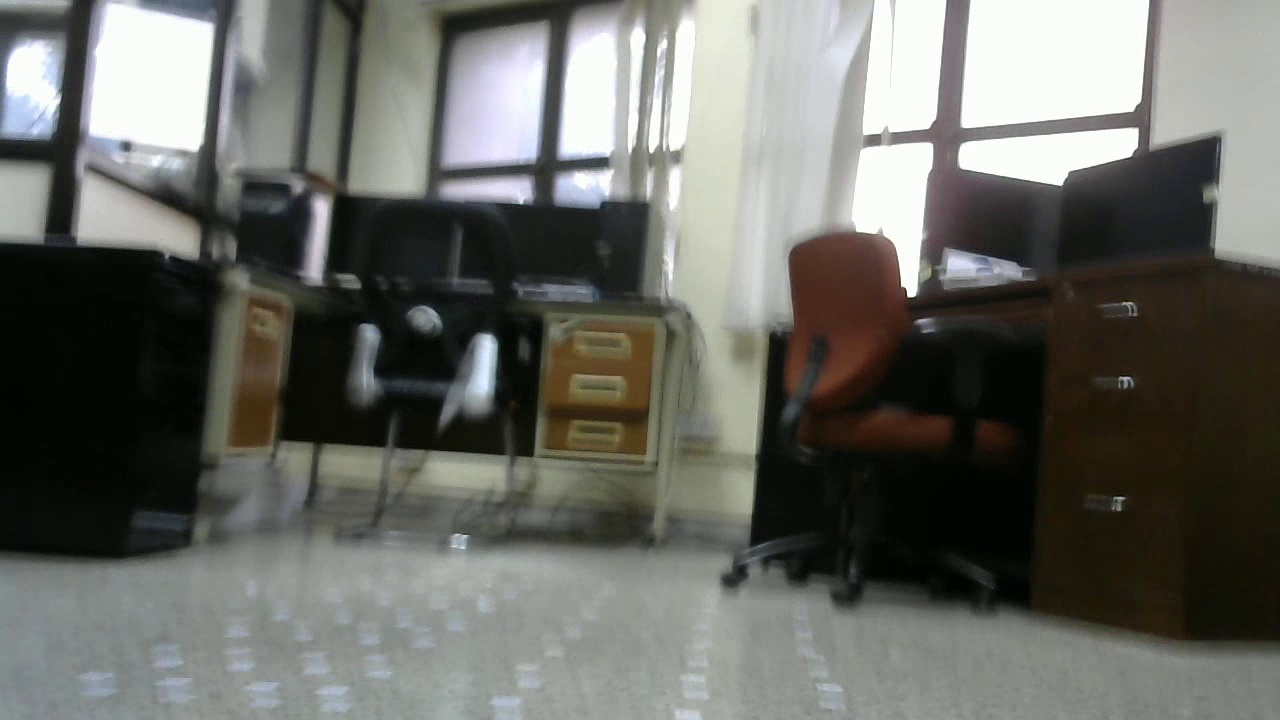chair: (717, 228, 1019, 608), (331, 198, 527, 550)
